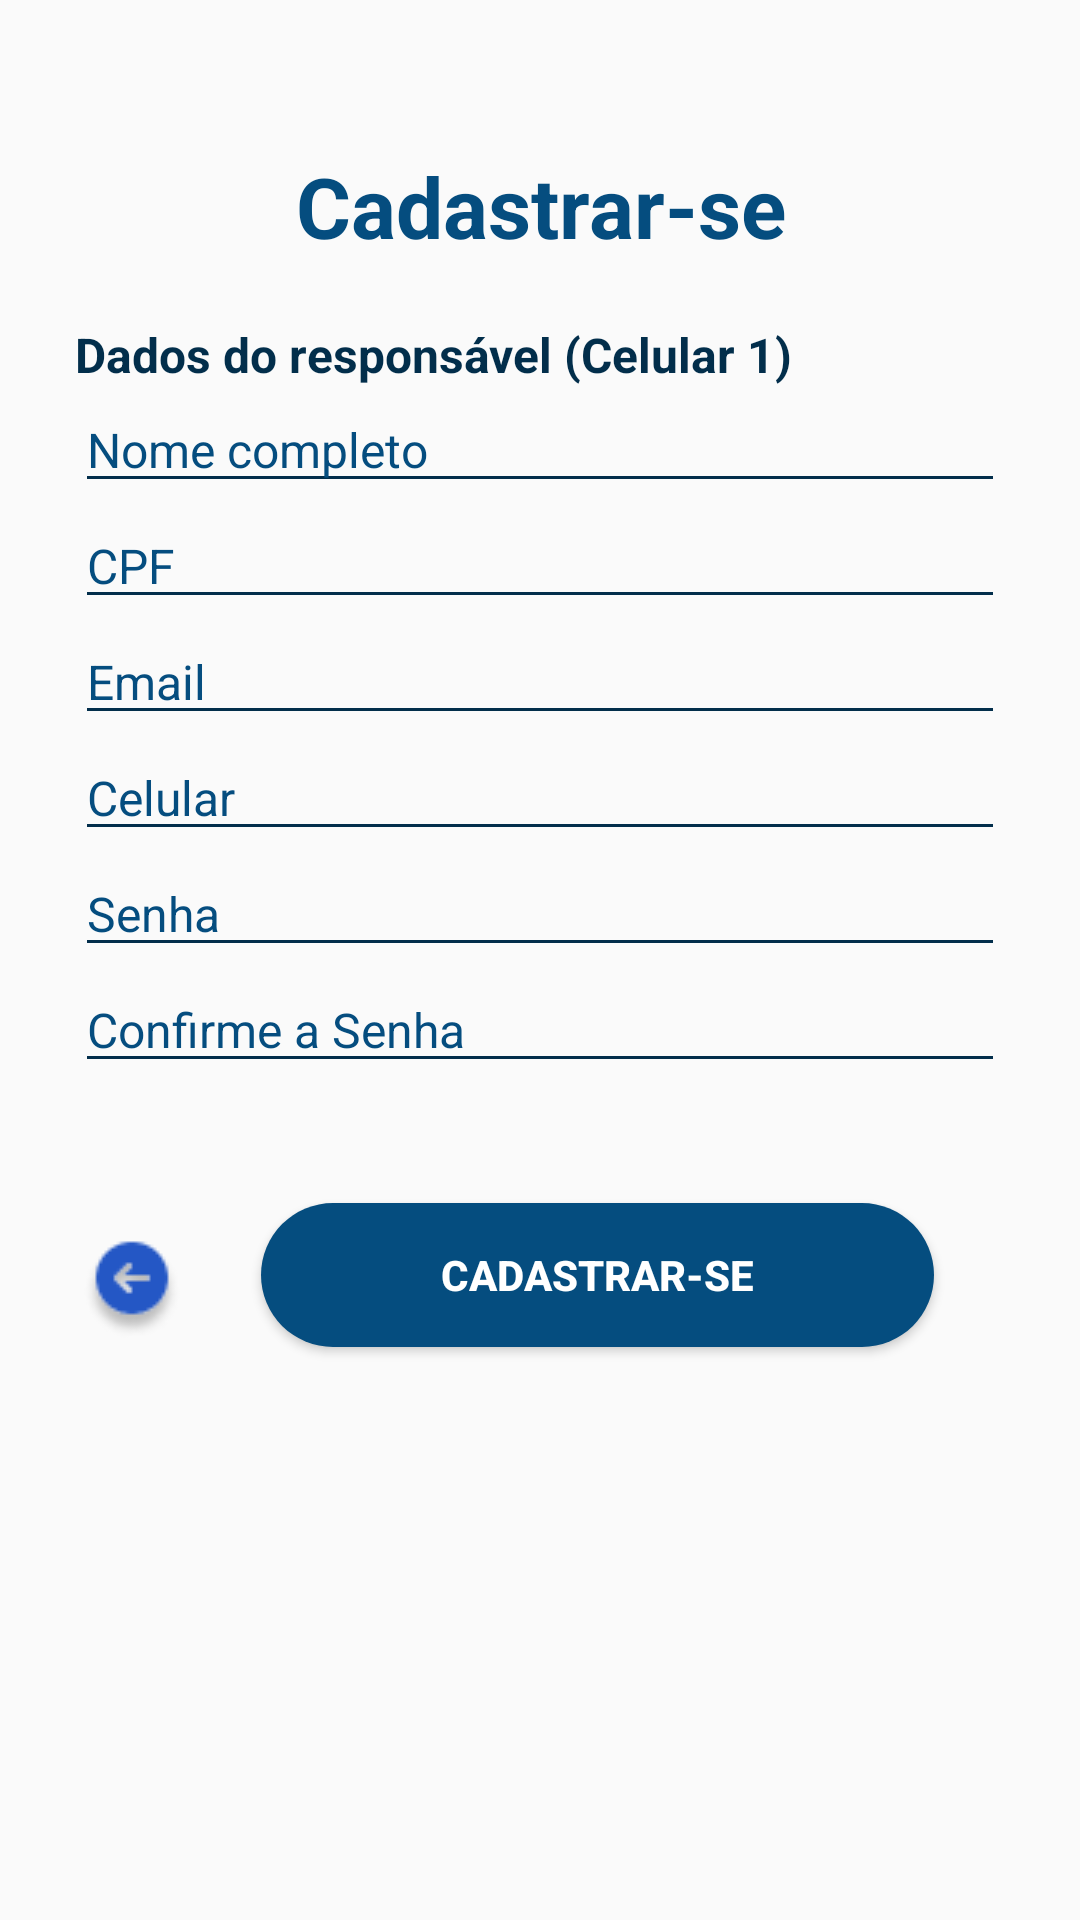

Where icons sit on this 1080px×1920px app screen, as [x1, y1, x2, y2]:
imgback: [95, 1241, 169, 1327]
